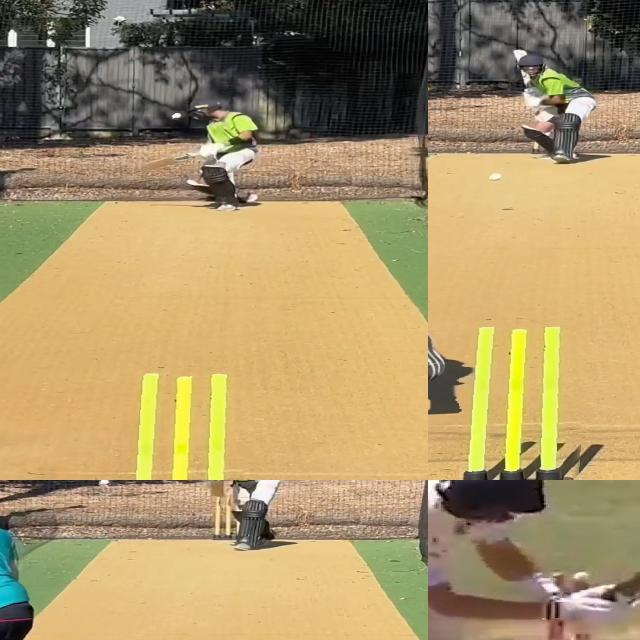Cricket ball: (487, 173, 505, 183), (96, 480, 111, 487), (170, 113, 183, 120)
Stumps: (459, 326, 589, 480), (121, 372, 251, 480), (212, 487, 242, 539)
